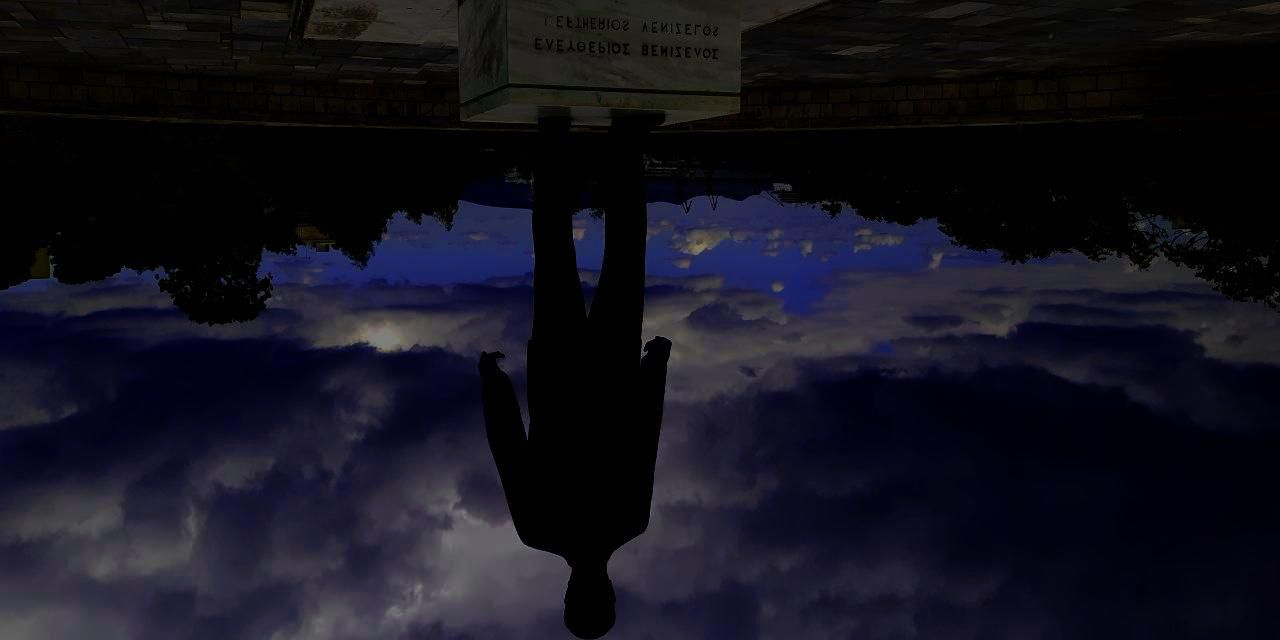Venizelos: (478, 113, 679, 640)
